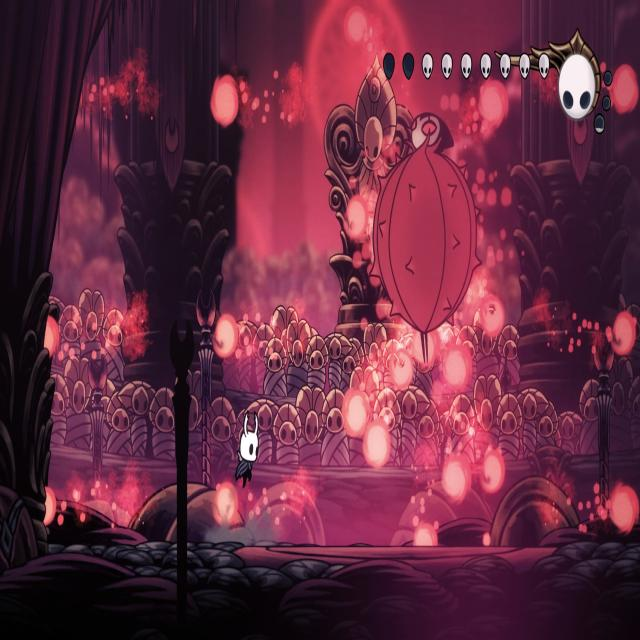Player: (231, 406, 262, 492)
Pufferfish: (367, 110, 484, 368)
Tiny Fireballs: (478, 78, 508, 134), (210, 76, 239, 128), (611, 64, 639, 115), (612, 485, 640, 535), (443, 456, 471, 504), (444, 346, 472, 392), (342, 391, 368, 439), (364, 422, 390, 468), (212, 484, 238, 529), (480, 450, 505, 496), (343, 193, 368, 239), (612, 312, 636, 357), (481, 295, 505, 338), (212, 316, 235, 359), (344, 7, 369, 45), (390, 351, 413, 391), (412, 329, 436, 366), (42, 316, 58, 356), (42, 485, 56, 527), (414, 524, 435, 546)
